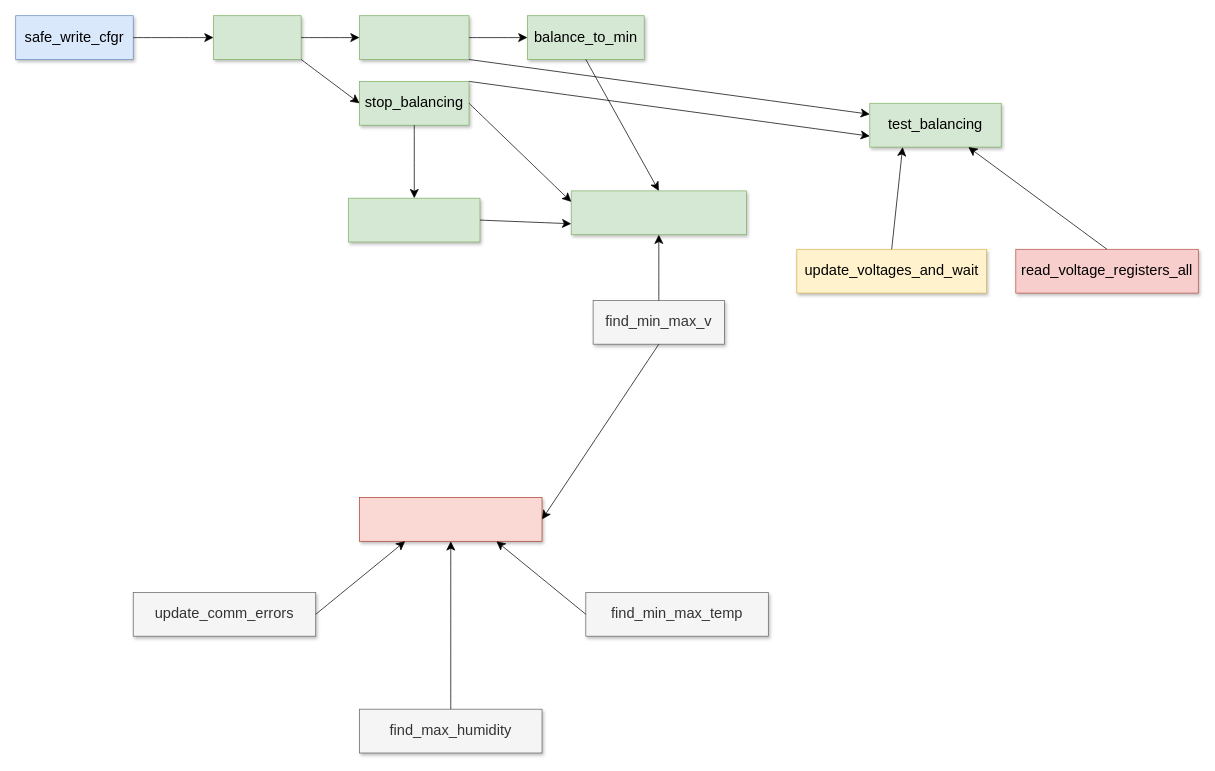
The diagram is 1215 pixels wide and 771 high, and some of its shapes have lost their labels. Here are the shapes that lost their labels. From the top down, the centre of each, then its label:
At (x=258, y=38): "discharge".
At (x=414, y=38): "balance_cells".
At (x=414, y=221): "finalize_balancing".
At (x=659, y=213): "update_balancing_cells".
At (x=451, y=520): "update_BMS_info_struct".
